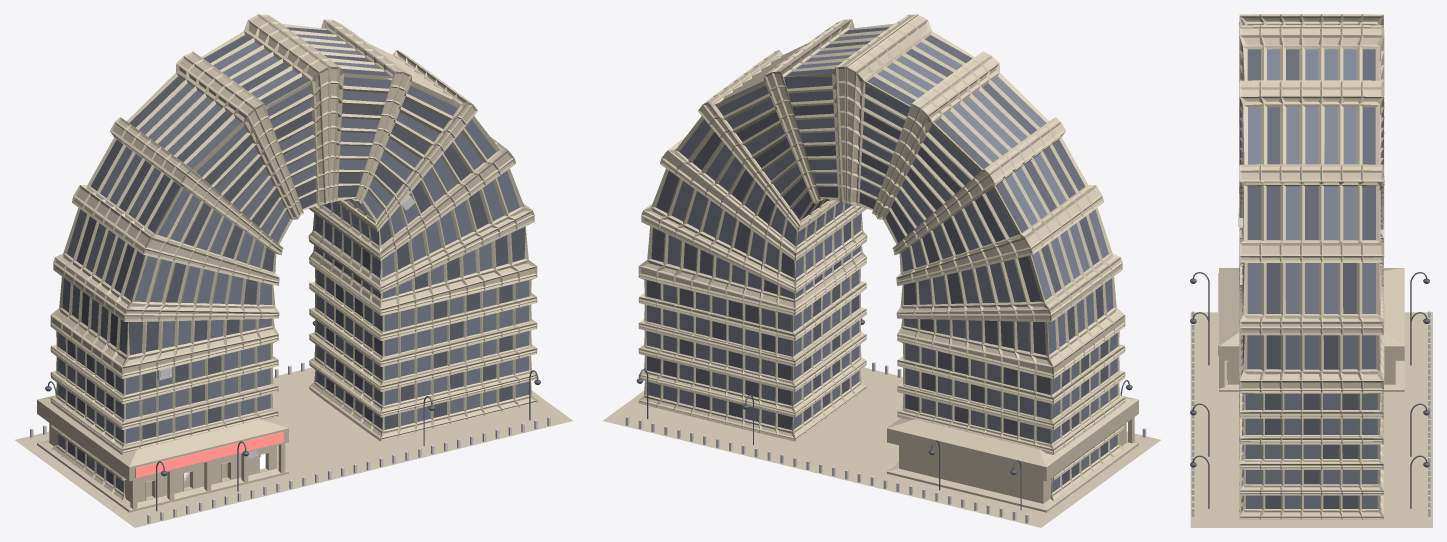
The model's file is Predio3.fbx.
3 renders of one model, left to right at view 1: azimuth 30°, elevation 25°; view 2: azimuth 150°, elevation 25°; view 3: azimuth 270°, elevation 25°, orthographic.
Parts seen in each view (by area): view 1: Cubo, Plano, Cubo.001, Cubo.007, Cubo.005; view 2: Cubo, Plano, Cubo.001, Cubo.008; view 3: Cubo, Plano, Cubo.001, Cubo.007, Cubo.008.
Part boxes in pixels (left/top/right/bottom): Cubo: left=50, top=14, right=537, bottom=500; Plano: left=15, top=367, right=572, bottom=527; Cubo.001: left=37, top=395, right=288, bottom=512; Cubo.007: left=147, top=416, right=550, bottom=523; Cubo.005: left=130, top=443, right=285, bottom=509; Cubo: left=638, top=14, right=1125, bottom=500; Plano: left=603, top=367, right=1160, bottom=527; Cubo.001: left=887, top=395, right=1138, bottom=512; Cubo.008: left=625, top=416, right=1028, bottom=523; Cubo: left=1239, top=14, right=1384, bottom=519; Plano: left=1190, top=312, right=1432, bottom=527; Cubo.001: left=1218, top=268, right=1404, bottom=391; Cubo.007: left=1191, top=311, right=1194, bottom=516; Cubo.008: left=1428, top=311, right=1430, bottom=516.
Size of the model in its own units: 549 by 467 by 261.
